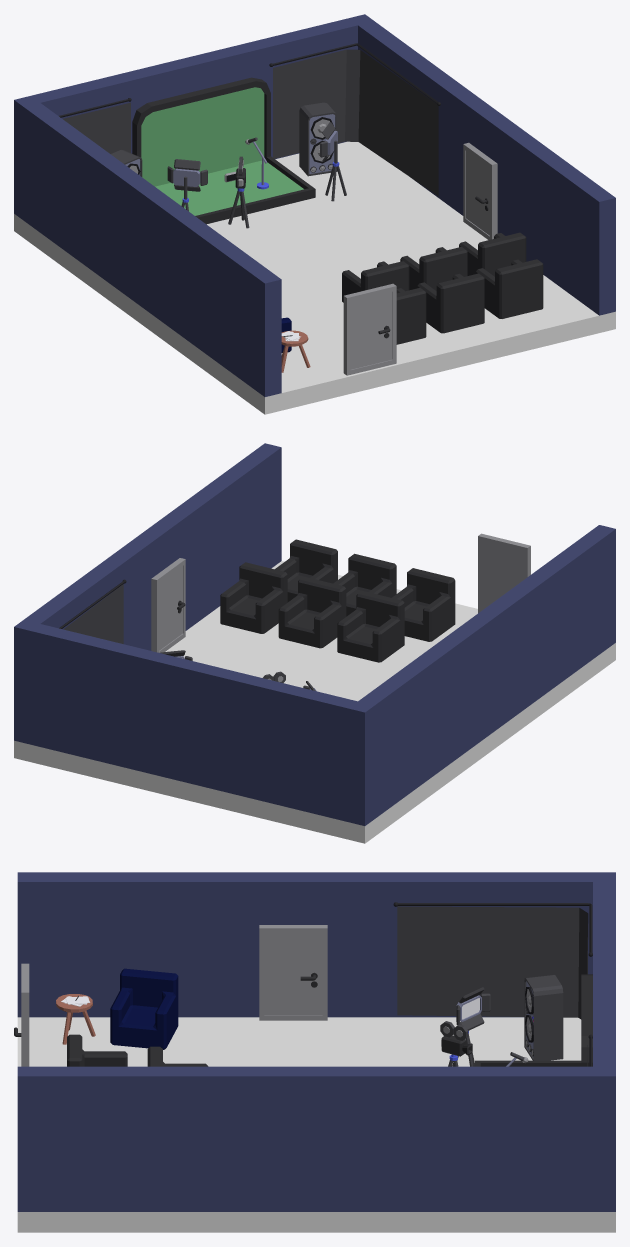
The model's file is Scene_4_FilmRoom.fbx.
The picture shows the model from 3 angles, top to bottom: view 1: azimuth 30°, elevation 25°; view 2: azimuth 150°, elevation 25°; view 3: azimuth 270°, elevation 25°; orthographic projection. The views are drawn at different scales.
Parts seen in each view (by area): view 1: WallsFilmRoom, BodenFilmRoom, GreenScreen, Gardine, FilmRoomDoorExitHallWay, Cube.001, Cube.002, FilmRoomDoorEntry, Gardine.001, Speaker Rechts.006, Cube.004, Cube.005 (+5 smaller); view 2: WallsFilmRoom, BodenFilmRoom, Cube.006, Cube.005, Cube.004, Cube.003, FilmRoomDoorExitHallWay, FilmRoomDoorEntry, Cube.002, Gardine, Cube.001; view 3: WallsFilmRoom, BodenFilmRoom, Gardine.001, FilmRoomDoorExitGameLab, SesselFilmRoom, Speaker Rechts.007, GreenScreen, Cube.003, FilmLight.001, FilmRoomDoorExitHallWay, FilmKamera, Tisch (+1 smaller).
Part boxes in pixels (x1=…): WallsFilmRoom: x1=14, y1=14, x2=615, y2=396; BodenFilmRoom: x1=14, y1=141, x2=615, y2=414; GreenScreen: x1=132, y1=77, x2=315, y2=224; Gardine: x1=269, y1=43, x2=440, y2=196; FilmRoomDoorExitHallWay: x1=343, y1=283, x2=396, y2=375; Cube.001: x1=476, y1=259, x2=543, y2=318; Cube.002: x1=417, y1=273, x2=484, y2=333; FilmRoomDoorEntry: x1=463, y1=142, x2=497, y2=239; Gardine.001: x1=59, y1=98, x2=131, y2=153; Speaker Rechts.006: x1=299, y1=102, x2=337, y2=176; Cube.004: x1=459, y1=232, x2=526, y2=276; Cube.005: x1=400, y1=247, x2=467, y2=290; WallsFilmRoom: x1=14, y1=443, x2=615, y2=825; BodenFilmRoom: x1=14, y1=561, x2=615, y2=843; Cube.006: x1=337, y1=591, x2=404, y2=662; Cube.005: x1=278, y1=576, x2=346, y2=648; Cube.004: x1=220, y1=562, x2=287, y2=633; Cube.003: x1=392, y1=568, x2=455, y2=641; FilmRoomDoorExitHallWay: x1=478, y1=533, x2=530, y2=613; FilmRoomDoorEntry: x1=151, y1=558, x2=185, y2=652; Cube.002: x1=333, y1=553, x2=396, y2=616; Gardine: x1=59, y1=579, x2=126, y2=643; Cube.001: x1=275, y1=539, x2=337, y2=602; WallsFilmRoom: x1=17, y1=872, x2=615, y2=1211; BodenFilmRoom: x1=17, y1=1017, x2=615, y2=1232; Gardine.001: x1=393, y1=902, x2=592, y2=1019; FilmRoomDoorExitGameLab: x1=259, y1=925, x2=327, y2=1020; SesselFilmRoom: x1=110, y1=968, x2=178, y2=1049; Speaker Rechts.007: x1=524, y1=974, x2=563, y2=1060; GreenScreen: x1=475, y1=974, x2=592, y2=1066; Cube.003: x1=67, y1=1034, x2=127, y2=1066; FilmLight.001: x1=452, y1=987, x2=490, y2=1066; FilmRoomDoorExitHallWay: x1=14, y1=963, x2=29, y2=1066; FilmKamera: x1=440, y1=1021, x2=472, y2=1066; Tisch: x1=56, y1=994, x2=95, y2=1044.
Size of the model in its own units: 2100 by 750 by 2616.
Materials: 1 (1 with a texture image).
